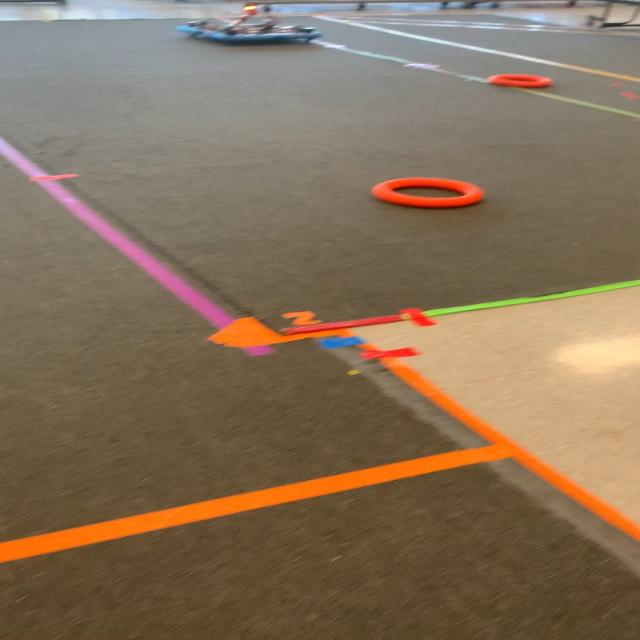notes: (373, 176, 484, 208), (490, 71, 553, 89)
